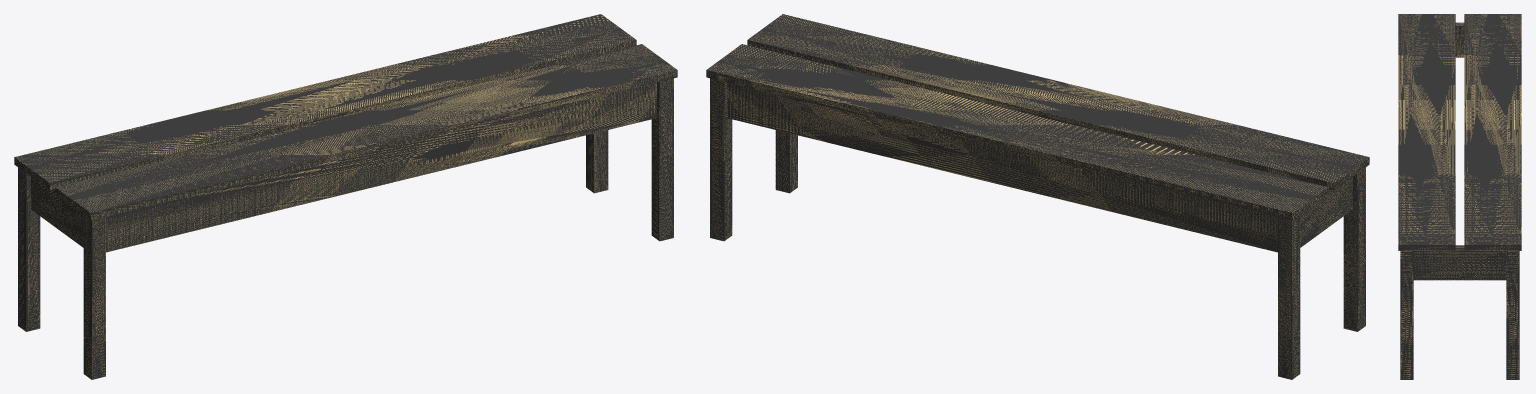
3 renders of one model, left to right at view 1: azimuth 30°, elevation 25°; view 2: azimuth 150°, elevation 25°; view 3: azimuth 270°, elevation 25°, orthographic. The views are drawn at different scales.
Parts seen in each view (by area): view 1: mesh2_mesh2-geometry, mesh3_mesh3-geometry, mesh1_mesh1-geometry, mesh4_mesh4-geometry; view 2: mesh3_mesh3-geometry, mesh2_mesh2-geometry, mesh1_mesh1-geometry, mesh4_mesh4-geometry; view 3: mesh2_mesh2-geometry, mesh3_mesh3-geometry, mesh4_mesh4-geometry, mesh1_mesh1-geometry.
Part boxes in pixels (<box>): mesh2_mesh2-geometry: <box>55,44,677,220</box>; mesh3_mesh3-geometry: <box>14,14,636,190</box>; mesh1_mesh1-geometry: <box>31,82,656,252</box>; mesh4_mesh4-geometry: <box>18,78,673,379</box>; mesh3_mesh3-geometry: <box>706,44,1328,220</box>; mesh2_mesh2-geometry: <box>747,14,1369,190</box>; mesh1_mesh1-geometry: <box>727,82,1352,252</box>; mesh4_mesh4-geometry: <box>710,78,1365,379</box>; mesh2_mesh2-geometry: <box>1398,14,1455,250</box>; mesh3_mesh3-geometry: <box>1464,14,1521,250</box>; mesh4_mesh4-geometry: <box>1400,251,1519,379</box>; mesh1_mesh1-geometry: <box>1413,22,1506,280</box>.
Size of the model in its own units: 0.9423 by 0.2584 by 0.2128.
